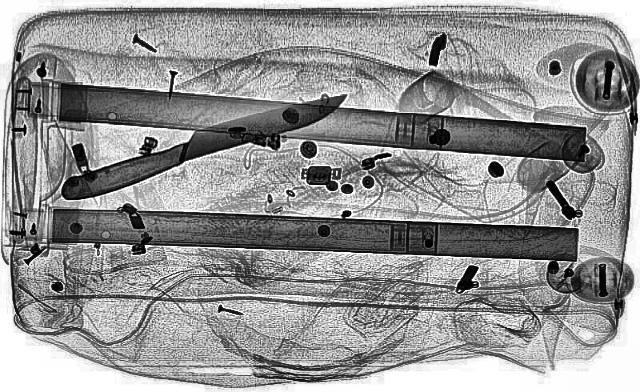Knife: (45, 85, 363, 204)
